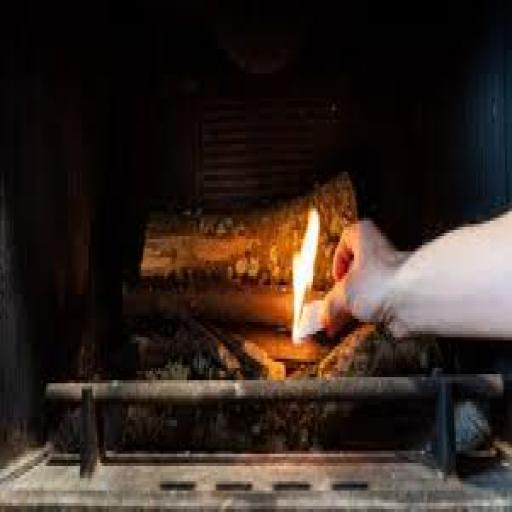fire: (286, 202, 333, 346)
